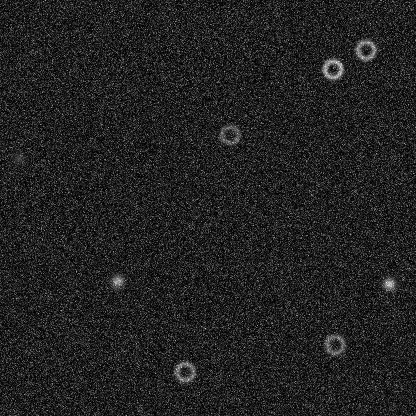Ring: (217, 122, 241, 146), (353, 37, 377, 61), (322, 332, 346, 356), (320, 57, 344, 81), (172, 359, 196, 383)
Spot: (109, 272, 125, 288), (10, 149, 26, 165), (381, 275, 397, 291)
